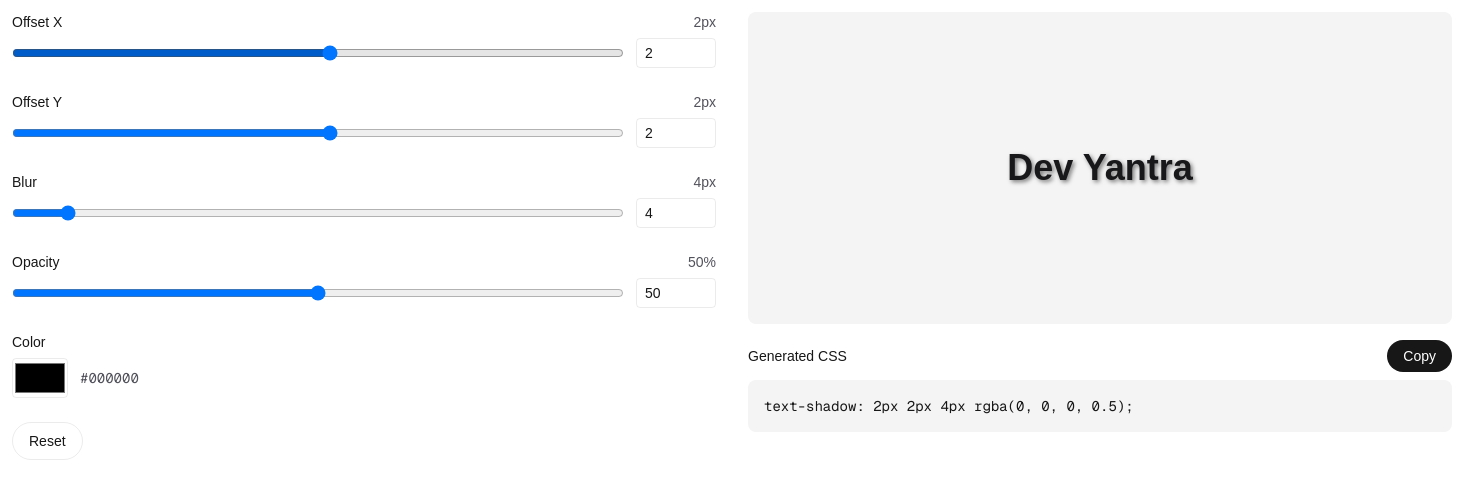
Scenario: TextShadowGenerator › updates the CSS output when the blur slider changes
This screenshot has width=1464, height=477.
Set the slider labelled "Blur" to "10" at (139, 213), box [12, 205, 624, 221]
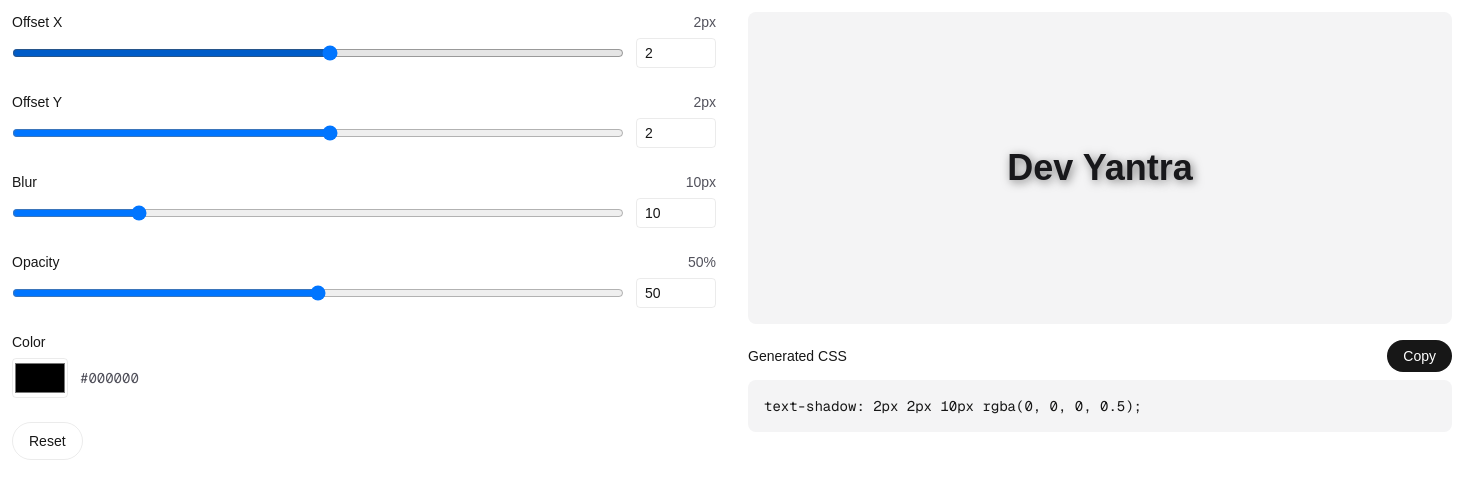
Check: the text "text-shadow: 2px 2px 10px rgba(0, 0, 0, 0.5);" is shown, box [748, 380, 1452, 432]
